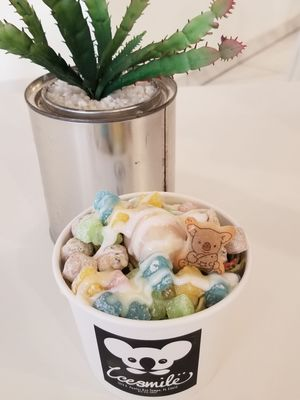pizza: (24, 73, 178, 244)
sushi: (50, 188, 255, 395)
